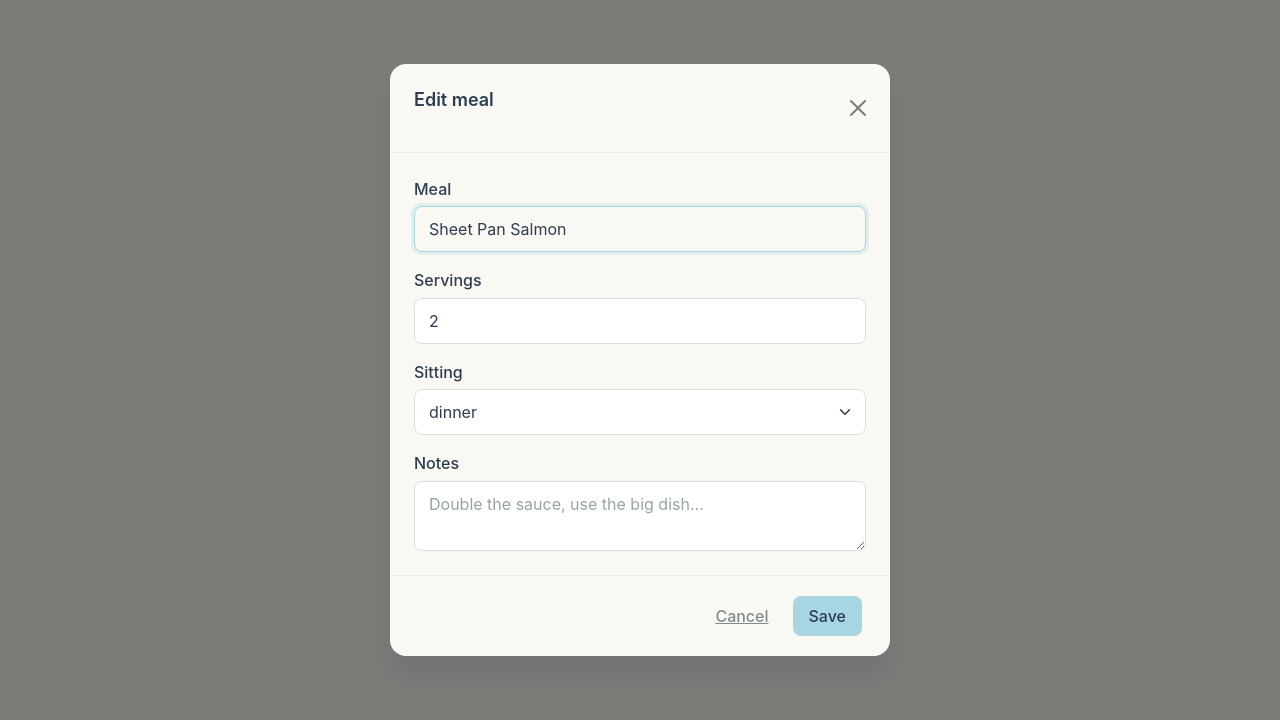
Test case: will not save a meal with no name
This screenshot has width=1280, height=720.
Clear the field labelled "Meal": (640, 229) [414, 206, 866, 252]
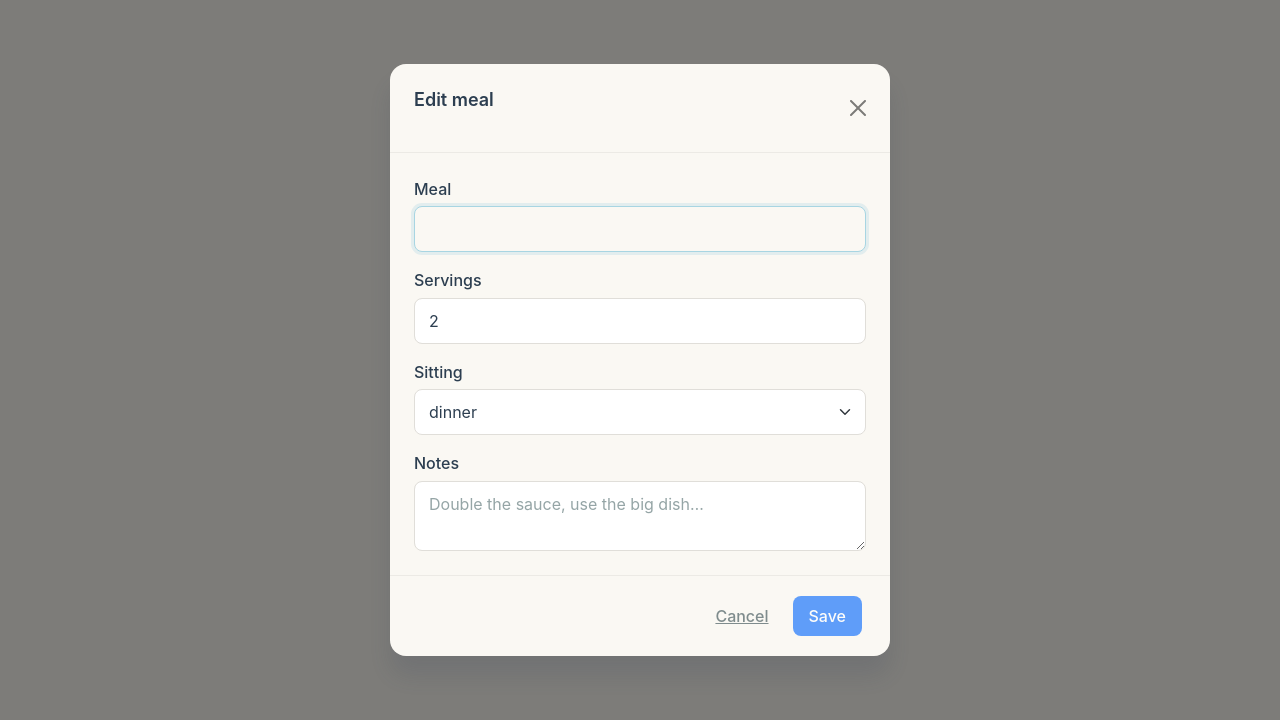
Now the button "Save" is disabled, box [792, 596, 862, 636]
